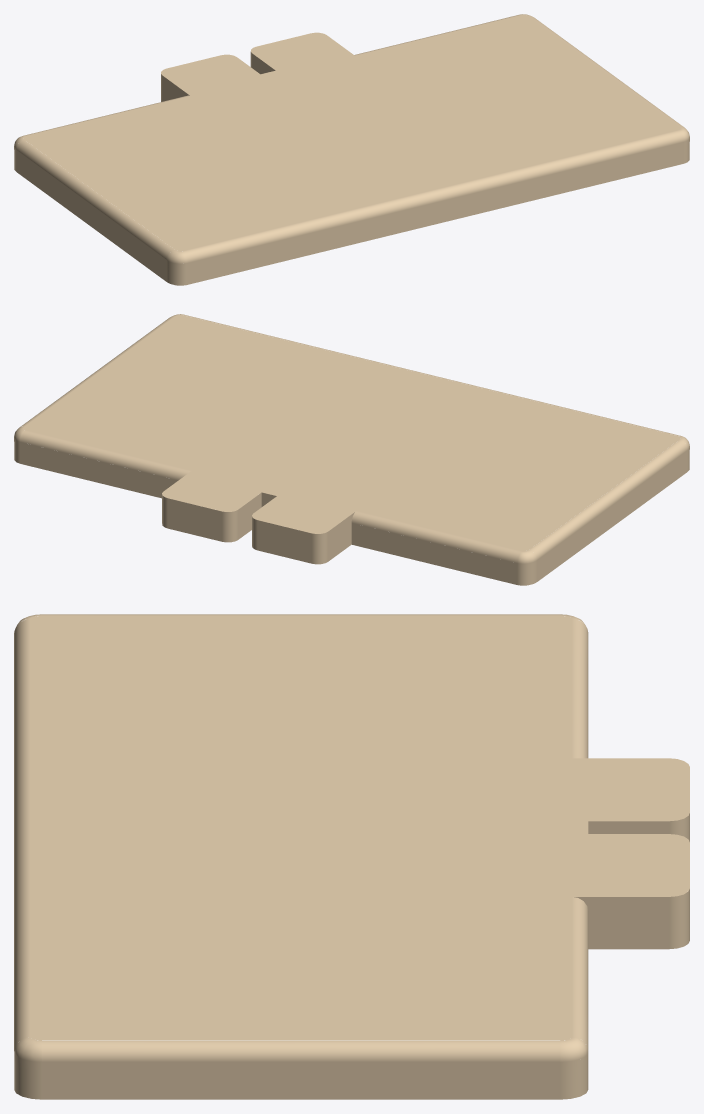
Rendered from ergoflex-side-shelf-large.glb.
The picture shows the model from 3 angles, top to bottom: view 1: azimuth 30°, elevation 25°; view 2: azimuth 150°, elevation 25°; view 3: azimuth 270°, elevation 25°; orthographic projection. The views are drawn at different scales.
Parts seen in each view (by area): view 1: Side shelf wood; view 2: Side shelf wood; view 3: Side shelf wood.
Boxes of the visible parts, bbox=[...] form: Side shelf wood: bbox=[14, 14, 689, 285]; Side shelf wood: bbox=[14, 314, 689, 585]; Side shelf wood: bbox=[14, 614, 689, 1099].
Bounding box in the file's own units: 0.3241 × 0.0181 × 0.2112.
